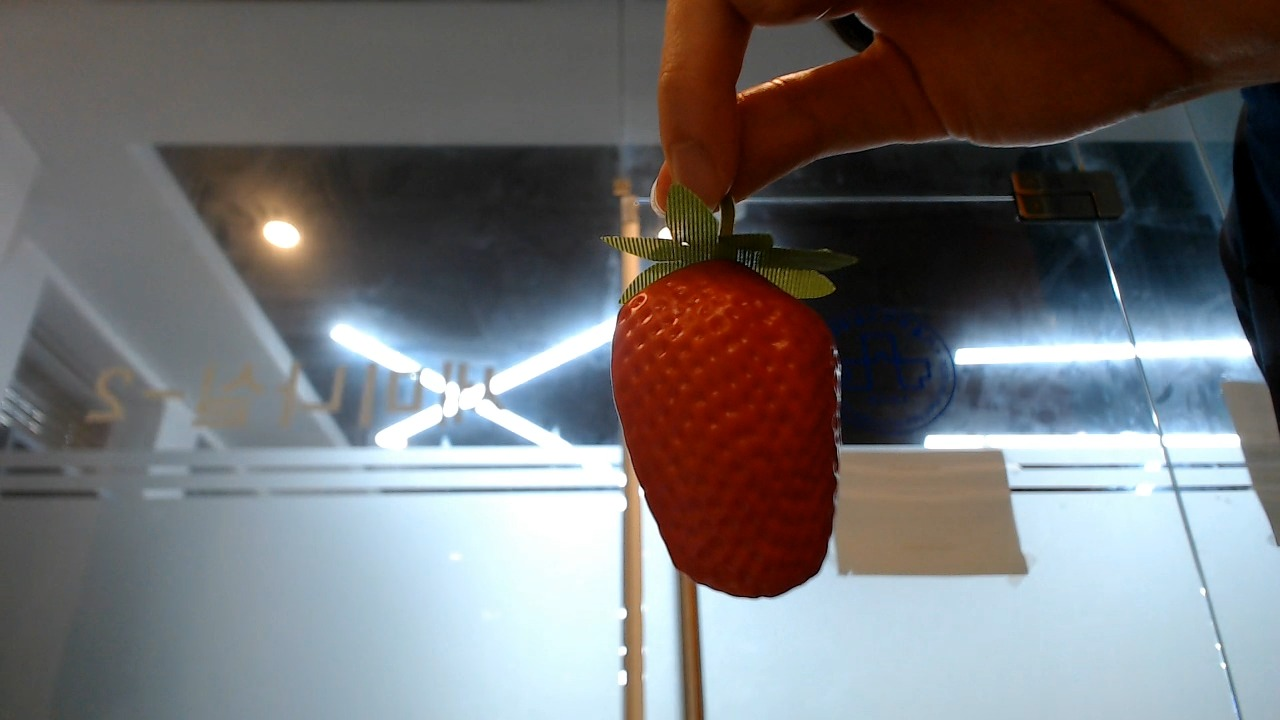strawberry: (610, 224, 840, 598)
